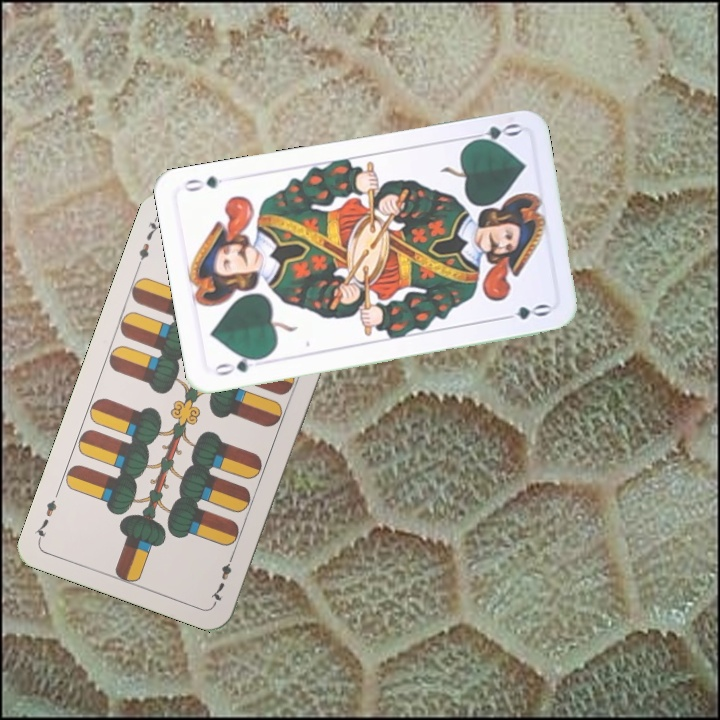E7: (206, 549, 237, 606), (133, 213, 162, 270)
GO: (463, 119, 523, 147), (209, 352, 267, 379)
